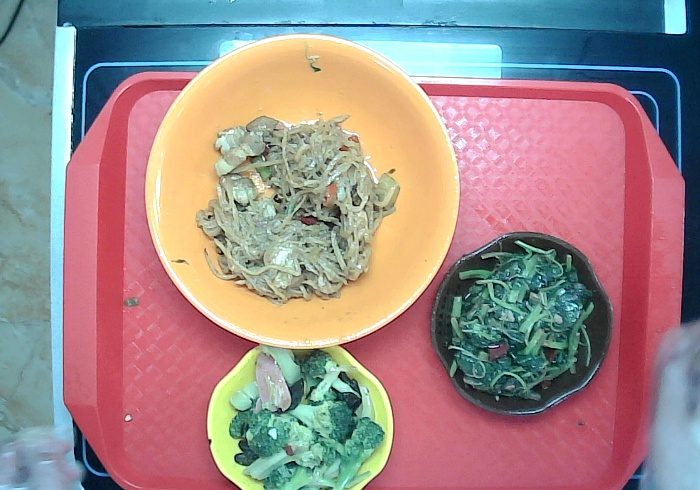YKMZ-Huang_Se_Ao_Bian_Wan: (205, 344, 396, 490)
YKMZ-Ju_Se_Tang_Wan: (143, 32, 462, 351)
YKMZ-Ka_Fei_Ao_Bian_Wan: (428, 229, 614, 417)
